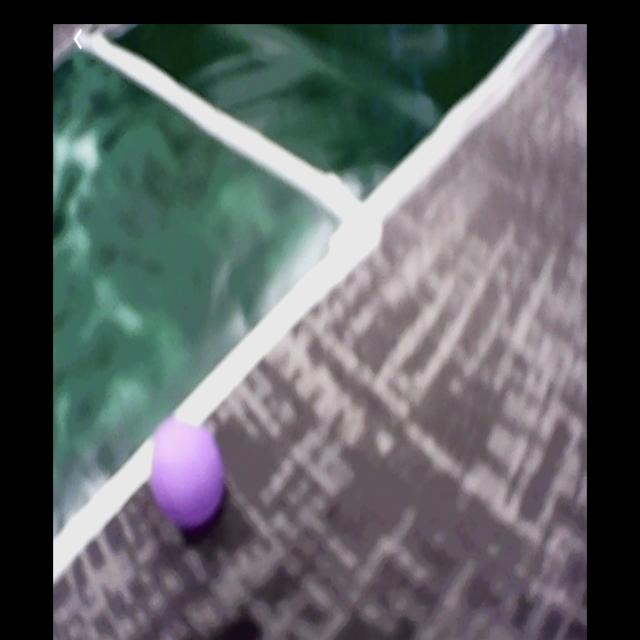ball: (152, 420, 224, 527)
